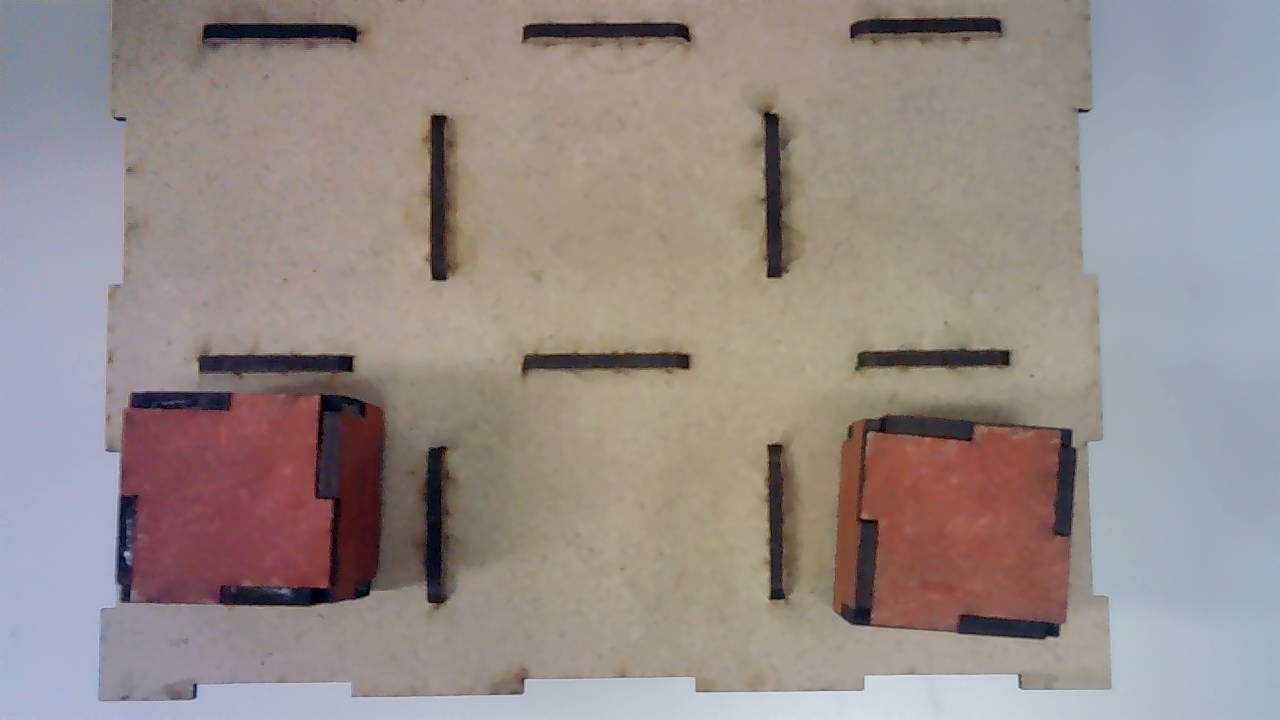red box: (115, 391, 381, 609), (833, 409, 1079, 643)
